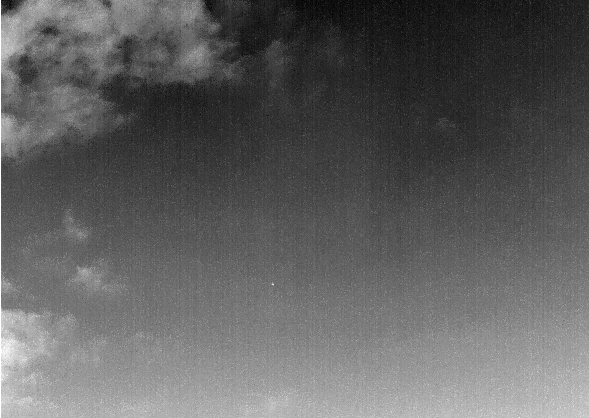dim target: (270, 281, 275, 287)
